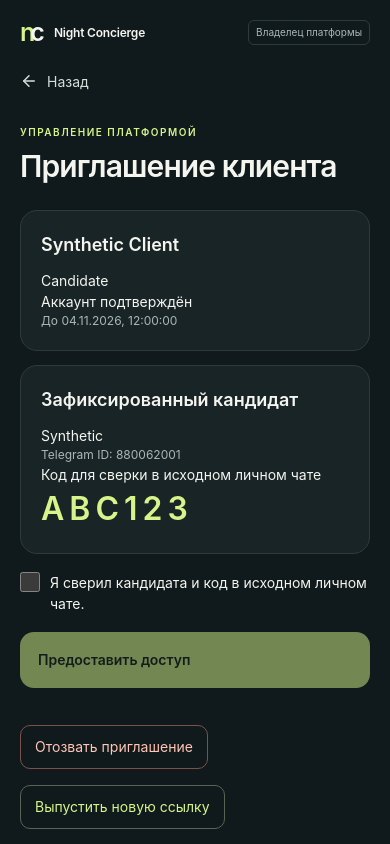
Test: connected onboarding screens › owner confirmation requires human verification and sends no verification code as credential
Expected: the text "ABC123" is shown, [41, 488, 193, 528]
Expected: the button "Предоставить доступ" is disabled, [20, 632, 370, 688]
Click the checkbox at [30, 582], box [20, 572, 40, 592]
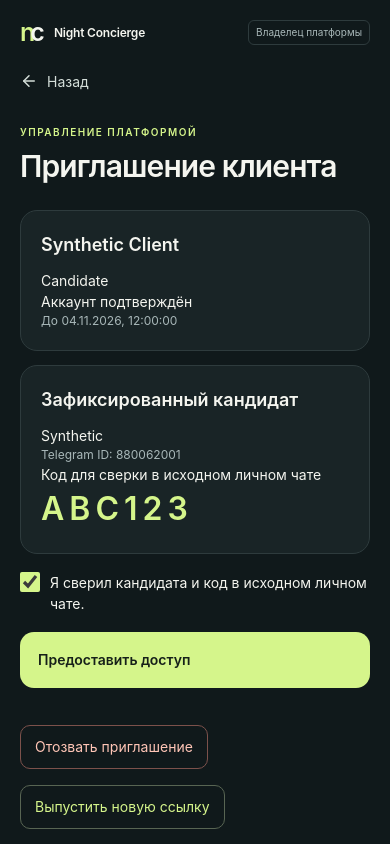
Click the button "Предоставить доступ" at [114, 660], box [20, 632, 370, 688]
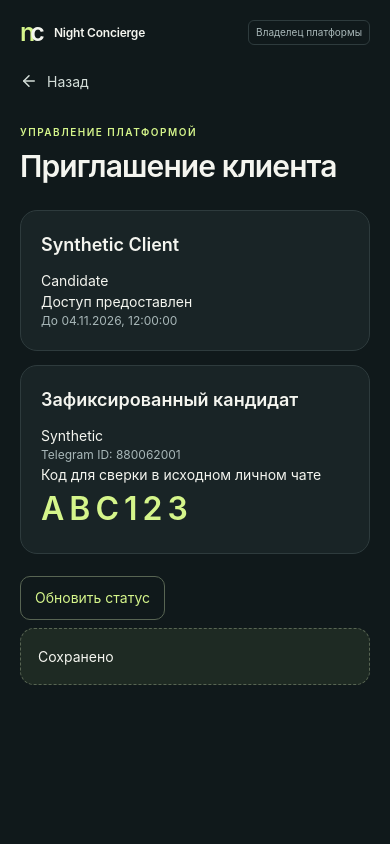
Now the text "Доступ предоставлен" is shown, box [41, 292, 192, 310]
